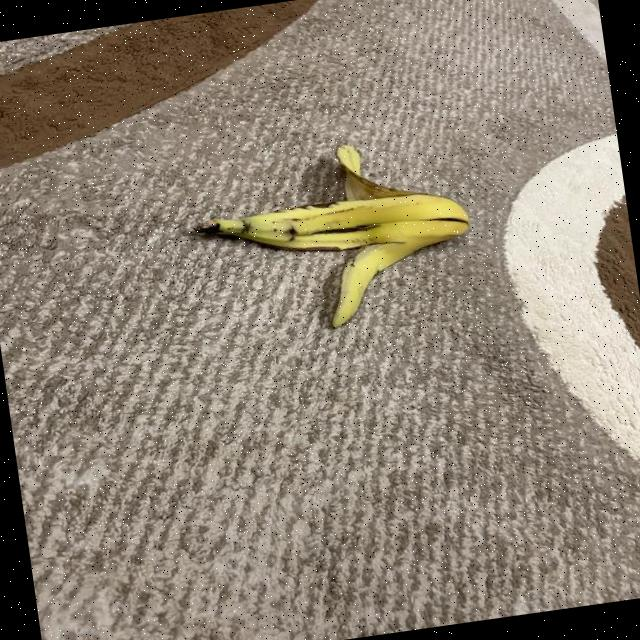banana-peel: (182, 127, 482, 347)
